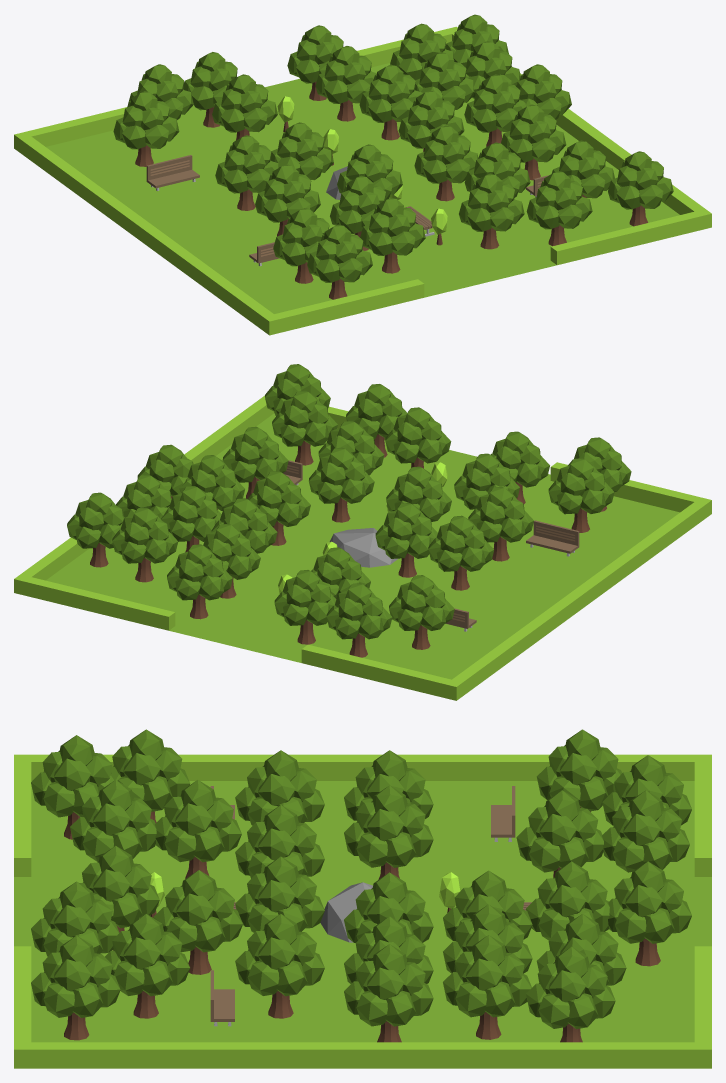
Rendered from forest2.gltf.
3 renders of one model, top to bottom at view 1: azimuth 30°, elevation 25°; view 2: azimuth 150°, elevation 25°; view 3: azimuth 270°, elevation 25°, orthographic. The views are drawn at different scales.
Visible parts, largest first — view 1: Natures_Grass Tile_Plane.010, Natures_Grass Fence_Cube.2536, Natures_Grass Fence_Cube.005, Natures_Grass Fence_Cube.002, Natures_Big Tree_Mesh.018, Natures_Big Tree_Mesh.008, Natures_Big Tree_Mesh.019, Natures_Big Tree_Mesh.030, Natures_Big Tree_Mesh.031, Natures_Big Tree_Mesh.032, Natures_Big Tree_Mesh.010, Natures_Big Tree_Mesh.013 (+25 smaller); view 2: Natures_Grass Tile_Plane.010, Natures_Grass Fence_Cube.2536, Natures_Grass Fence_Cube.003, Natures_Grass Fence_Cube.004, Natures_Grass Fence_Cube.001, Natures_Big Tree_Mesh.003, Natures_Big Tree_Mesh.010, Natures_Big Tree_Mesh.026, Natures_Big Tree_Mesh.013, Natures_Big Tree_Mesh.027, Natures_Big Tree_Mesh.001, Natures_Big Tree_Mesh.008 (+25 smaller); view 3: Natures_Grass Tile_Plane.010, Natures_Grass Fence_Cube.001, Natures_Grass Fence_Cube.2536, Natures_Big Tree_Mesh.030, Natures_Big Tree_Mesh.009, Natures_Big Tree_Mesh.023, Natures_Big Tree_Mesh.026, Natures_Big Tree_Mesh.017, Natures_Big Tree_Mesh.024, Natures_Big Tree_Mesh.002, Natures_Big Tree_Mesh.020, Natures_Big Tree_Mesh.014 (+28 smaller).
Boxes of the visible parts, x1,y1,x2,y2 form: Natures_Grass Tile_Plane.010: [46, 63, 679, 313]; Natures_Grass Fence_Cube.2536: [14, 132, 279, 333]; Natures_Grass Fence_Cube.005: [263, 279, 424, 335]; Natures_Grass Fence_Cube.002: [550, 211, 711, 265]; Natures_Big Tree_Mesh.018: [459, 173, 524, 249]; Natures_Big Tree_Mesh.008: [113, 91, 179, 166]; Natures_Big Tree_Mesh.019: [360, 197, 425, 273]; Natures_Big Tree_Mesh.030: [608, 151, 673, 226]; Natures_Big Tree_Mesh.031: [526, 171, 592, 246]; Natures_Big Tree_Mesh.032: [307, 224, 372, 299]; Natures_Big Tree_Mesh.010: [414, 125, 478, 201]; Natures_Big Tree_Mesh.013: [215, 135, 279, 210]; Natures_Grass Tile_Plane.010: [46, 413, 679, 679]; Natures_Grass Fence_Cube.2536: [446, 498, 711, 700]; Natures_Grass Fence_Cube.003: [14, 575, 175, 630]; Natures_Grass Fence_Cube.004: [301, 644, 462, 700]; Natures_Grass Fence_Cube.001: [16, 395, 273, 580]; Natures_Big Tree_Mesh.003: [112, 507, 178, 582]; Natures_Big Tree_Mesh.010: [309, 447, 374, 522]; Natures_Big Tree_Mesh.026: [167, 544, 232, 619]; Natures_Big Tree_Mesh.013: [428, 515, 493, 590]; Natures_Big Tree_Mesh.027: [326, 583, 392, 657]; Natures_Big Tree_Mesh.001: [548, 458, 614, 532]; Natures_Big Tree_Mesh.008: [389, 575, 454, 649]; Natures_Grass Tile_Plane.010: [14, 781, 711, 1042]; Natures_Grass Fence_Cube.001: [14, 1042, 711, 1068]; Natures_Grass Fence_Cube.2536: [14, 754, 711, 780]; Natures_Big Tree_Mesh.030: [31, 935, 120, 1040]; Natures_Big Tree_Mesh.009: [235, 914, 324, 1018]; Natures_Big Tree_Mesh.023: [443, 935, 531, 1039]; Natures_Big Tree_Mesh.026: [608, 861, 691, 966]; Natures_Big Tree_Mesh.017: [344, 944, 433, 1042]; Natures_Big Tree_Mesh.024: [526, 946, 615, 1042]; Natures_Big Tree_Mesh.002: [105, 914, 189, 1018]; Natures_Big Tree_Mesh.020: [154, 780, 241, 878]; Natures_Big Tree_Mesh.014: [344, 785, 433, 879].
Size of the model in its own units: 40 by 6.12 by 40.
32 materials, 32 textured.
